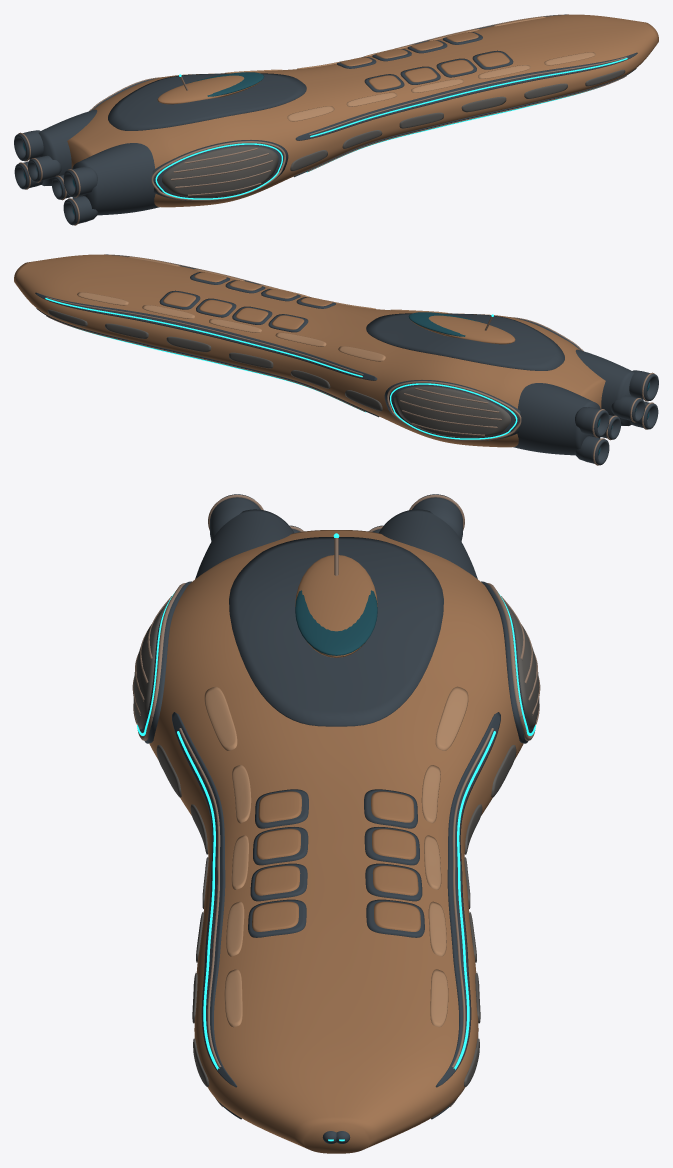
The model's file is changjiang-hydro.glb.
The picture shows the model from 3 angles, top to bottom: view 1: azimuth 30°, elevation 25°; view 2: azimuth 150°, elevation 25°; view 3: azimuth 270°, elevation 25°; orthographic projection. The views are drawn at different scales.
Parts seen in each view (by area): view 1: Continuous pressure hull, Hydro / seated dorsal machinery bay, Aft propulsion / integrated nacelle, Hydro intake / inset grille bed, Continuous conduit / curved backing, Aft propulsion / integrated nacelle.001, Bridge / armored tier, Hydro intake / contoured dark housing, Hydro / six-nozzle propulsion.001, Hydro intake / seated bronze bezel, Hydro / six-nozzle propulsion.004, Hydro / six-nozzle propulsion (+22 smaller); view 2: Continuous pressure hull, Hydro / seated dorsal machinery bay, Aft propulsion / integrated nacelle.001, Hydro intake / inset grille bed.001, Continuous conduit / curved backing.002, Aft propulsion / integrated nacelle, Bridge / armored tier, Hydro intake / contoured dark housing.001, Hydro / six-nozzle propulsion.004, Hydro intake / seated bronze bezel.001, Hydro / six-nozzle propulsion.001, Hydro / six-nozzle propulsion.003 (+22 smaller); view 3: Continuous pressure hull, Hydro / seated dorsal machinery bay, Bridge / armored tier, Continuous conduit / curved backing.002, Continuous conduit / curved backing, Aft propulsion / integrated nacelle, Aft propulsion / integrated nacelle.001, Bridge / glazing, Hydro intake / inset grille bed, Hydro intake / inset grille bed.001, Outer armor / regularly spaced plate, Outer armor / regularly spaced plate.010 (+18 smaller).
Boxes of the visible parts, x1,y1,x2,y2 form: Continuous pressure hull: [67, 14, 658, 207]; Hydro / seated dorsal machinery bay: [108, 73, 306, 130]; Aft propulsion / integrated nacelle: [72, 143, 159, 215]; Hydro intake / inset grille bed: [162, 146, 278, 197]; Continuous conduit / curved backing: [295, 52, 637, 140]; Aft propulsion / integrated nacelle.001: [38, 109, 97, 185]; Bridge / armored tier: [157, 75, 260, 104]; Hydro intake / contoured dark housing: [152, 140, 288, 200]; Hydro / six-nozzle propulsion.001: [63, 167, 97, 197]; Hydro intake / seated bronze bezel: [151, 141, 285, 200]; Hydro / six-nozzle propulsion.004: [14, 130, 43, 160]; Hydro / six-nozzle propulsion: [63, 196, 98, 225]; Continuous pressure hull: [14, 254, 605, 447]; Hydro / seated dorsal machinery bay: [366, 313, 564, 370]; Aft propulsion / integrated nacelle.001: [513, 383, 600, 455]; Hydro intake / inset grille bed.001: [394, 386, 510, 437]; Continuous conduit / curved backing.002: [35, 292, 377, 380]; Aft propulsion / integrated nacelle: [575, 349, 634, 425]; Bridge / armored tier: [412, 315, 515, 344]; Hydro intake / contoured dark housing.001: [384, 380, 520, 440]; Hydro / six-nozzle propulsion.004: [575, 407, 609, 437]; Hydro intake / seated bronze bezel.001: [387, 381, 521, 440]; Hydro / six-nozzle propulsion.001: [629, 370, 658, 400]; Hydro / six-nozzle propulsion.003: [574, 436, 609, 465]; Continuous pressure hull: [149, 530, 523, 1153]; Hydro / seated dorsal machinery bay: [229, 537, 443, 726]; Bridge / armored tier: [295, 555, 377, 657]; Continuous conduit / curved backing.002: [435, 712, 500, 1087]; Continuous conduit / curved backing: [172, 712, 237, 1087]; Aft propulsion / integrated nacelle: [195, 509, 293, 578]; Aft propulsion / integrated nacelle.001: [379, 509, 477, 578]; Bridge / glazing: [295, 590, 377, 655]; Hydro intake / inset grille bed: [133, 600, 169, 729]; Hydro intake / inset grille bed.001: [503, 600, 539, 729]; Outer armor / regularly spaced plate: [204, 686, 237, 750]; Outer armor / regularly spaced plate.010: [435, 686, 468, 750].
Size of the model in its own units: 750 by 134 by 217.
